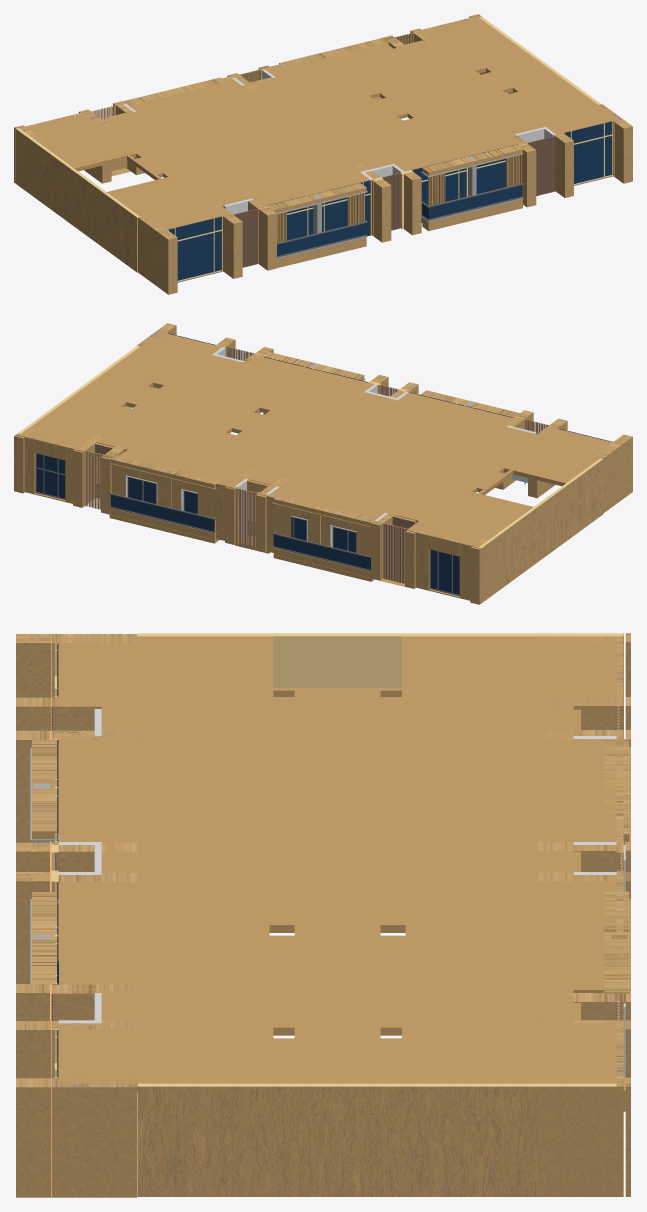
File: fifthfloor.compressed.glb
The picture shows the model from 3 angles, top to bottom: view 1: azimuth 30°, elevation 25°; view 2: azimuth 150°, elevation 25°; view 3: azimuth 270°, elevation 25°; orthographic projection. The views are drawn at different scales.
Visible parts, largest first — view 1: FIFTH FLOOR; view 2: FIFTH FLOOR; view 3: FIFTH FLOOR.
Boxes of the visible parts, <box> form: FIFTH FLOOR: <box>14,14,632,294</box>; FIFTH FLOOR: <box>14,323,632,604</box>; FIFTH FLOOR: <box>16,633,630,1197</box>.
Size of the model in its own units: 11.1 by 1.35 by 6.36.
9 materials, 1 textured.
